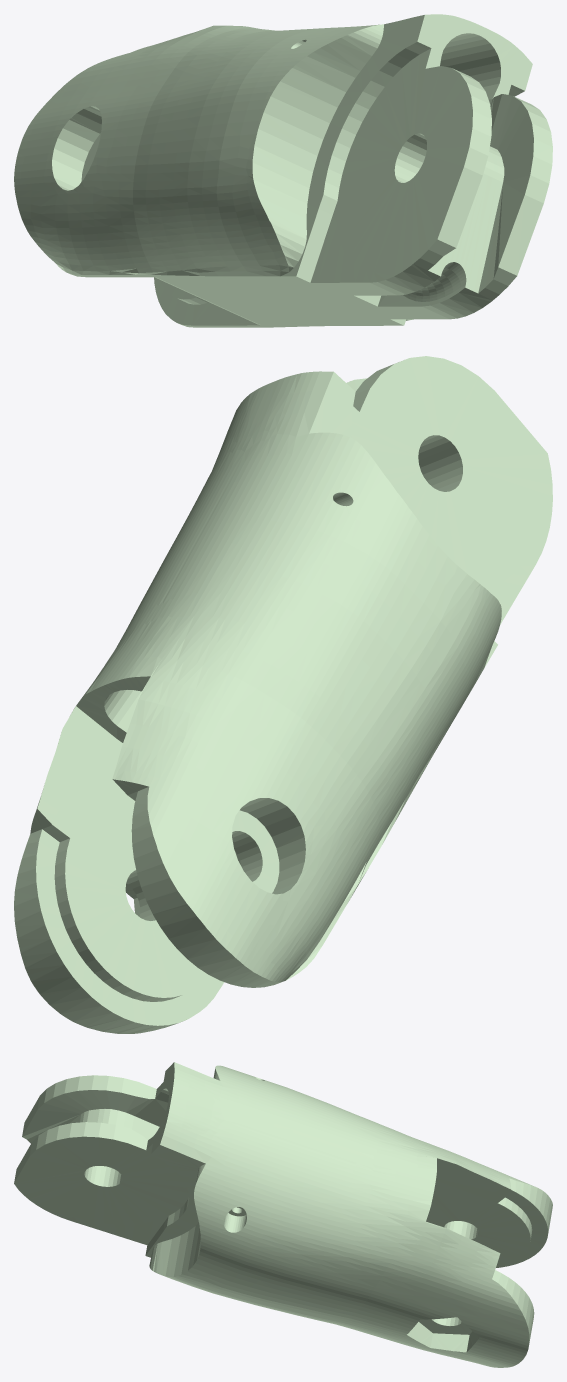
The model's file is i02_leftHand_ringFingerPhal_visual.obj.full.glb.
3 views of the same model, one above another, from view 1: azimuth 30°, elevation 25°; view 2: azimuth 150°, elevation 25°; view 3: azimuth 270°, elevation 25° (orthographic). The views are drawn at different scales.
Size of the model in its own units: 0.214 by 0.3231 by 0.5002.
